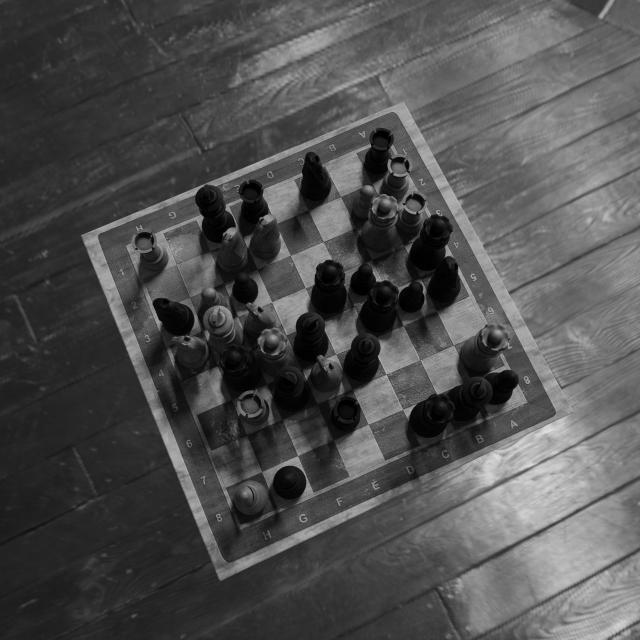chessboard: (128, 135, 526, 532)
